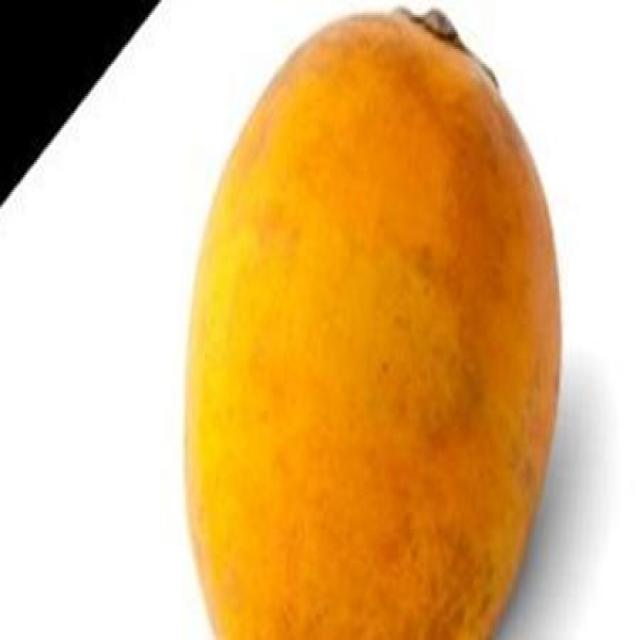good: (181, 11, 565, 638)
